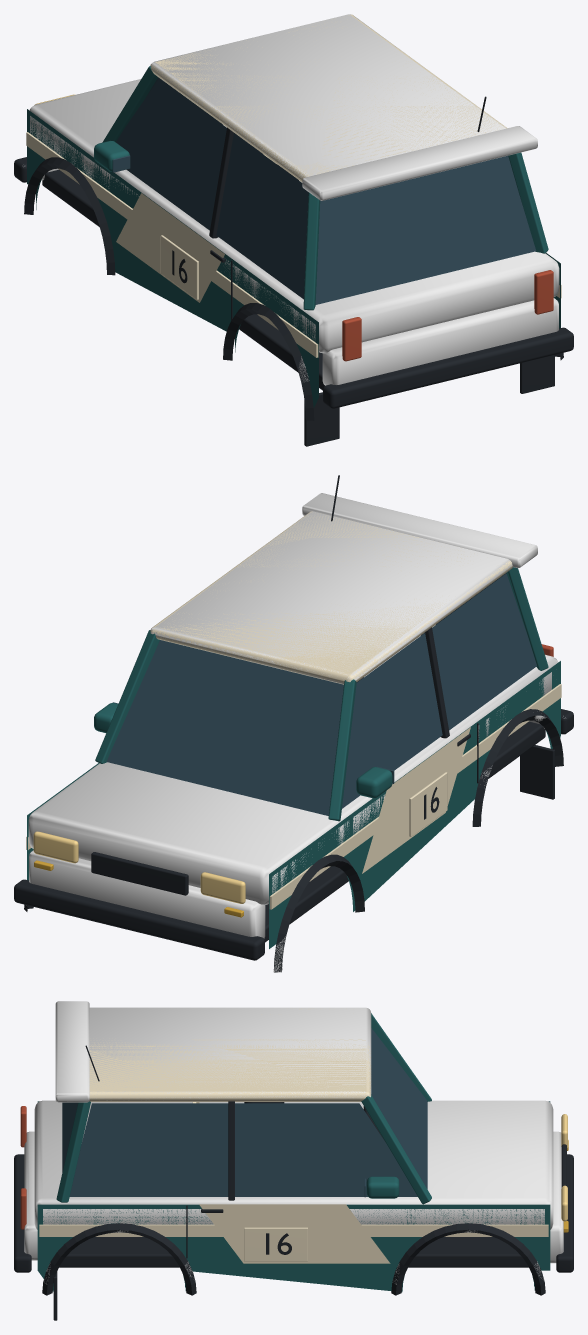
3 views of the same model, one above another, from view 1: azimuth 30°, elevation 25°; view 2: azimuth 150°, elevation 25°; view 3: azimuth 270°, elevation 25° (orthographic). The views are drawn at different scales.
Visible parts, largest first — view 1: Outline_Body, glass, ink, teal, ivory, BrakeLamp; view 2: Outline_Body, glass, ivory, ink, teal, lamp; view 3: Outline_Body, glass, ivory, teal, ink, BrakeLamp, lamp.
Part boxes in pixels (bbox=[...]): Outline_Body: bbox=[24, 14, 559, 385]; glass: bbox=[112, 77, 536, 304]; ink: bbox=[14, 96, 573, 446]; teal: bbox=[27, 66, 560, 407]; ivory: bbox=[26, 14, 561, 357]; BrakeLamp: bbox=[342, 270, 553, 361]; Outline_Body: bbox=[26, 493, 565, 972]; glass: bbox=[106, 573, 536, 815]; ivory: bbox=[26, 511, 561, 909]; ink: bbox=[14, 475, 573, 972]; teal: bbox=[27, 567, 560, 948]; lamp: bbox=[33, 831, 245, 903]; Outline_Body: bbox=[24, 1001, 563, 1284]; glass: bbox=[62, 1028, 427, 1197]; ivory: bbox=[39, 1008, 548, 1263]; teal: bbox=[37, 1013, 550, 1291]; ink: bbox=[14, 1045, 573, 1320]; BrakeLamp: bbox=[20, 1106, 26, 1229]; lamp: bbox=[561, 1114, 567, 1221].
Bounding box in the file's own units: 1.94 × 1.88 × 3.77.
